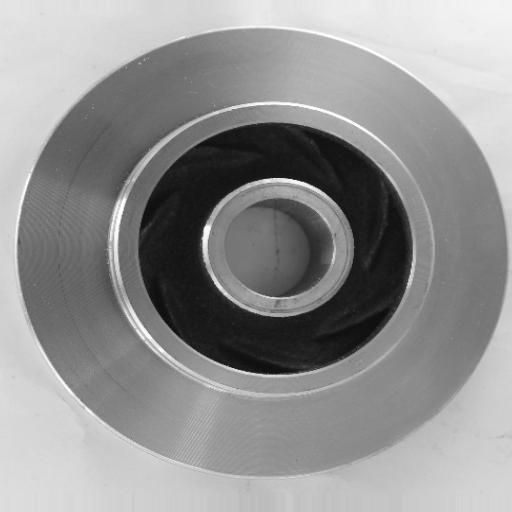polished_casting: (17, 25, 512, 479)
